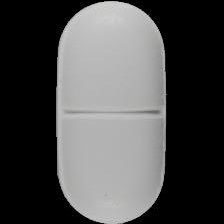76237-185: (0, 0, 224, 224)
